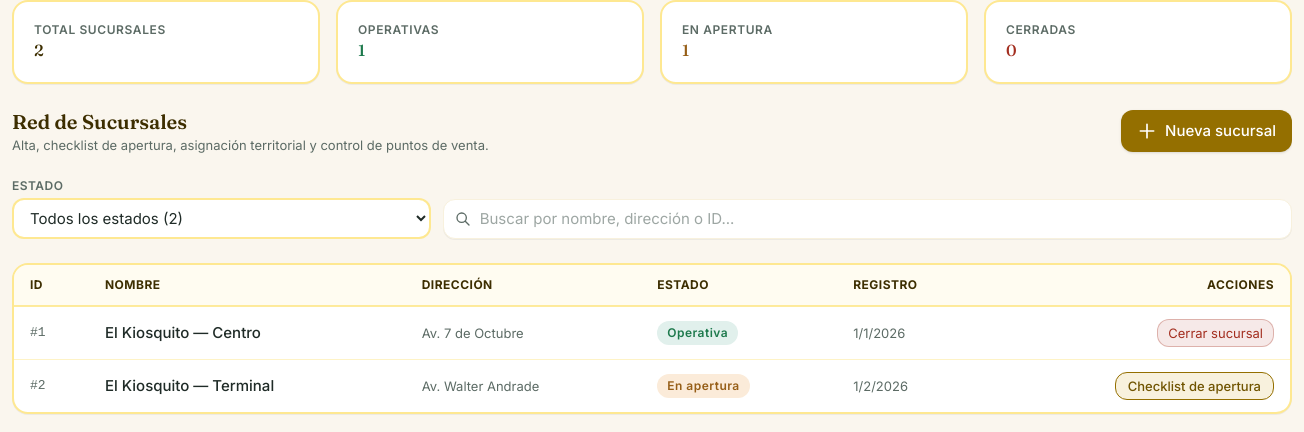
Test: Sucursales › permite filtrar sucursales por nombre o dirección usando la barra de búsqueda
The width and height of the screenshot is (1304, 432).
Expected: the text "El Kiosquito — Centro" is shown, [89,306,406,360]
Type "Terminal" into the field with placeholder "Buscar por nombre, dirección o ID...".
click(867, 219); type("Terminal")  # box [443,199,1292,239]
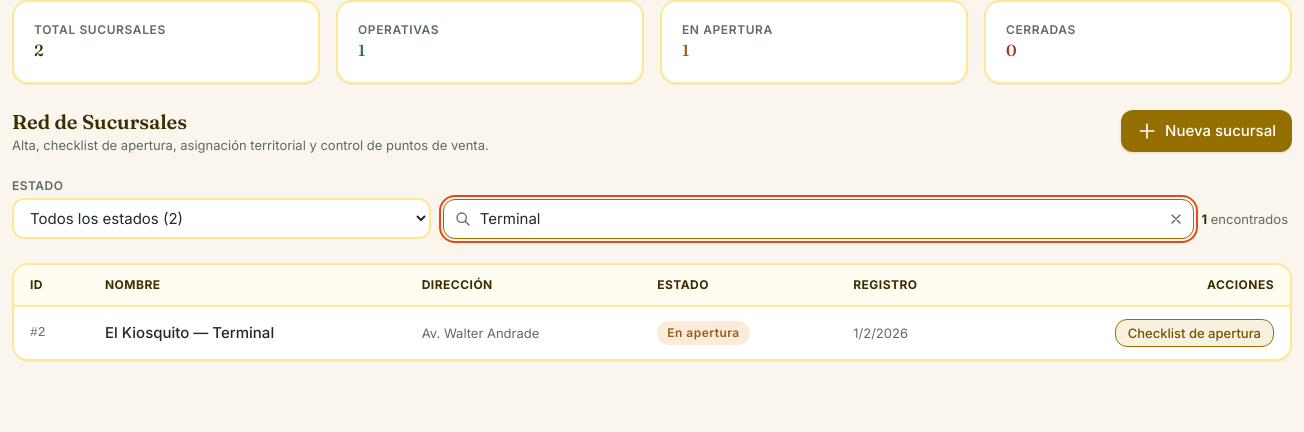
Expected: the text "El Kiosquito — Terminal" is shown, [89,306,406,359]
Now the text "El Kiosquito — Centro" is gone
